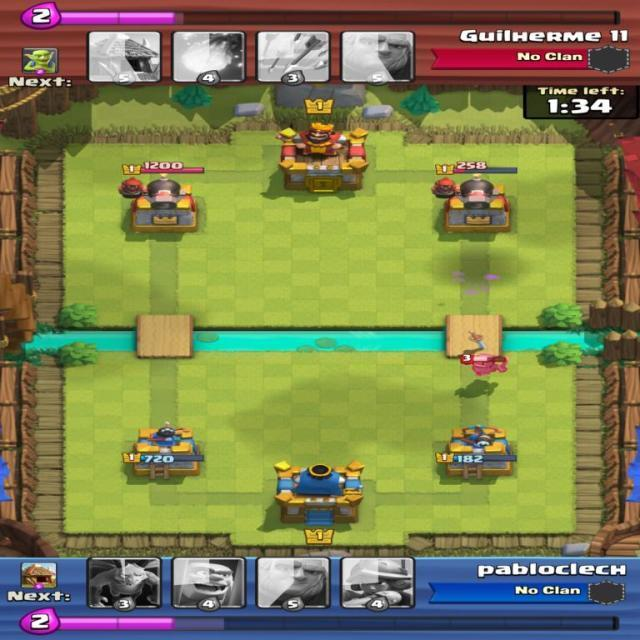ECannoneerTower: (131, 177, 197, 232), (444, 179, 510, 231)
EKingTower: (279, 123, 368, 192)
EMiniPeka: (459, 353, 508, 378)
OwnKingTower: (274, 464, 363, 524)
OwnPrincessTower: (123, 423, 203, 478), (436, 426, 516, 478)
